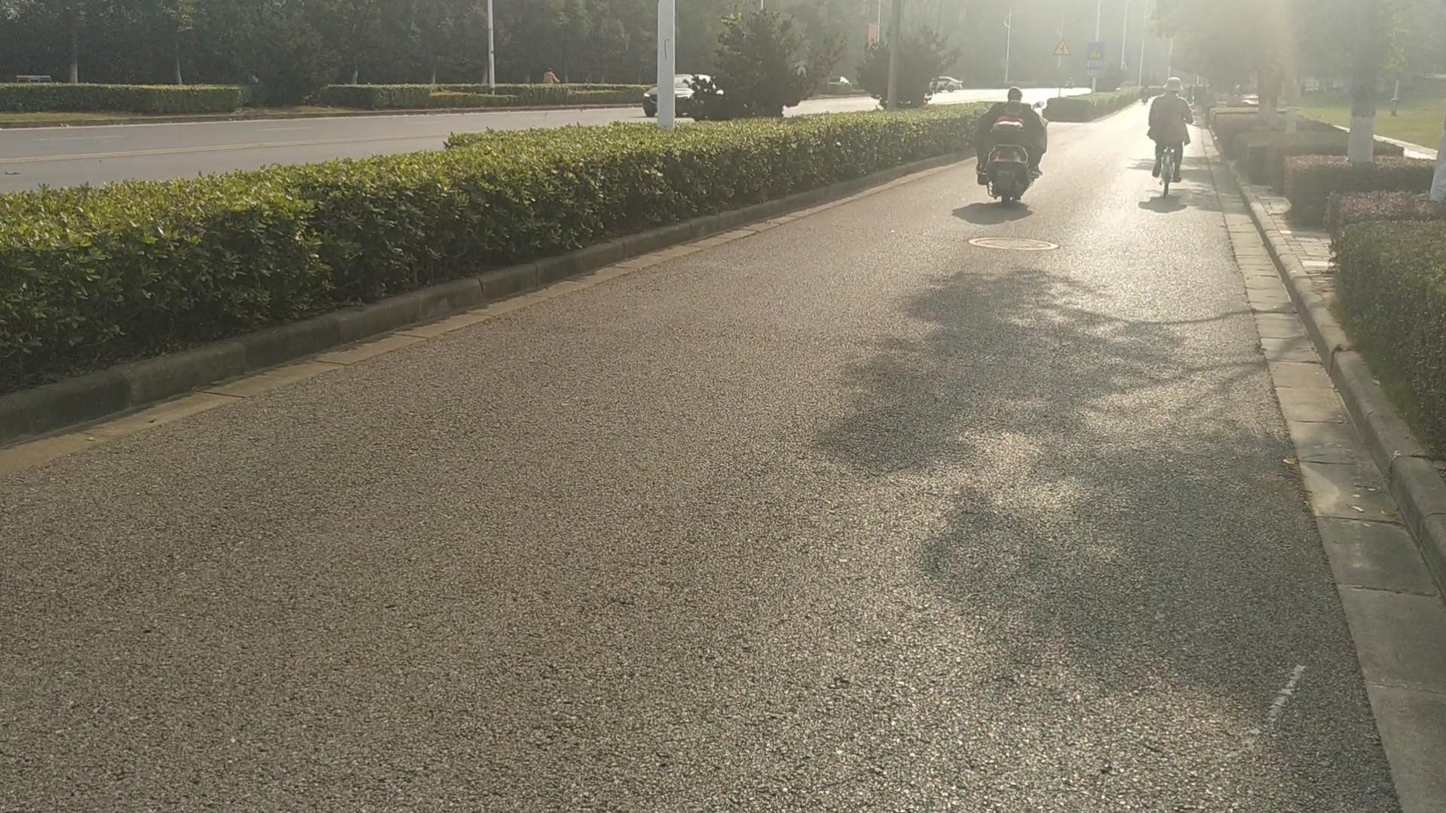car: (642, 74, 723, 119), (782, 84, 884, 117), (925, 75, 962, 99)
